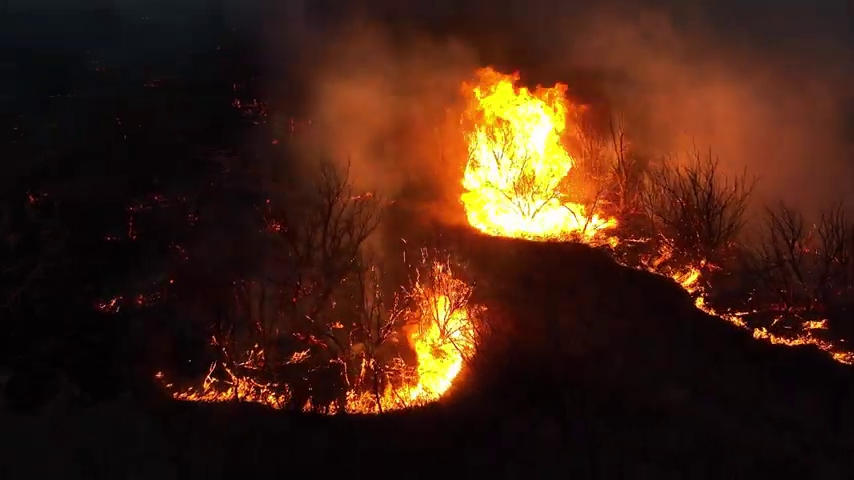forest_fire: (163, 260, 478, 413), (461, 67, 623, 245), (641, 249, 853, 363)
